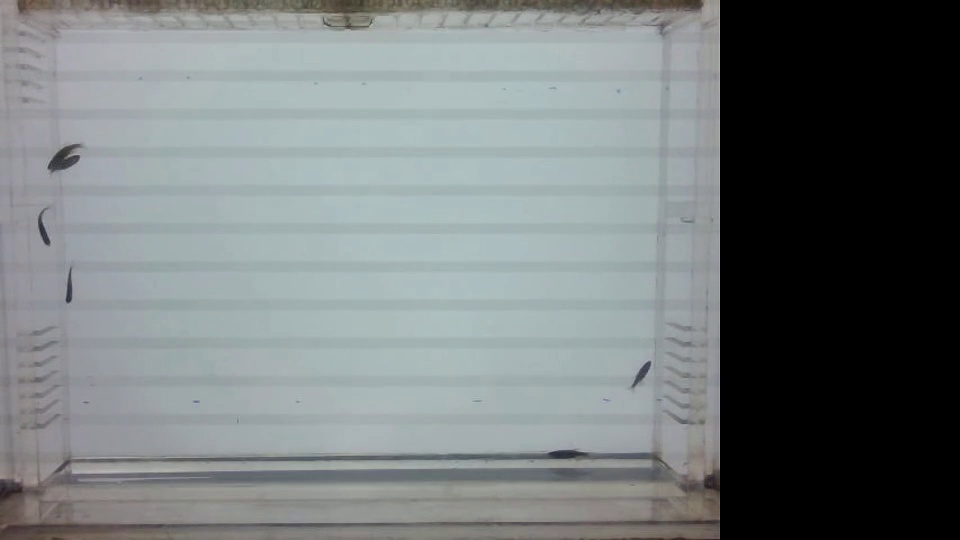fish: (40, 140, 84, 172), (26, 204, 56, 250), (56, 261, 80, 309), (625, 356, 652, 394), (540, 446, 596, 464), (49, 156, 86, 180)
